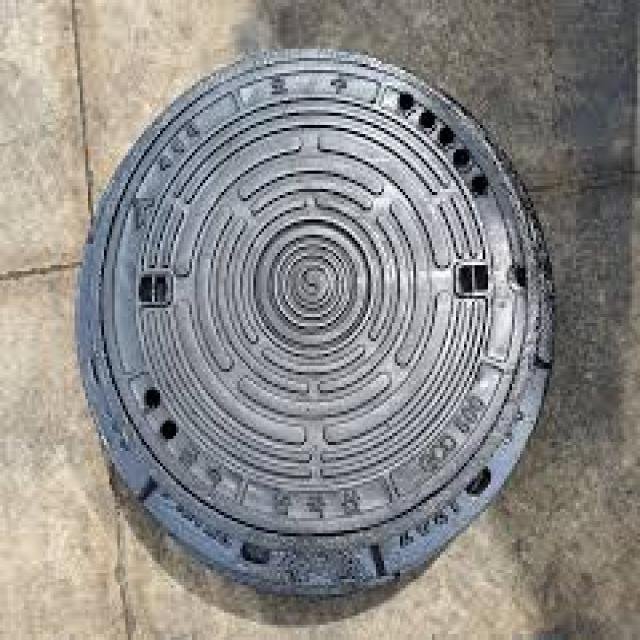Sewer Cover: (52, 32, 592, 619)
